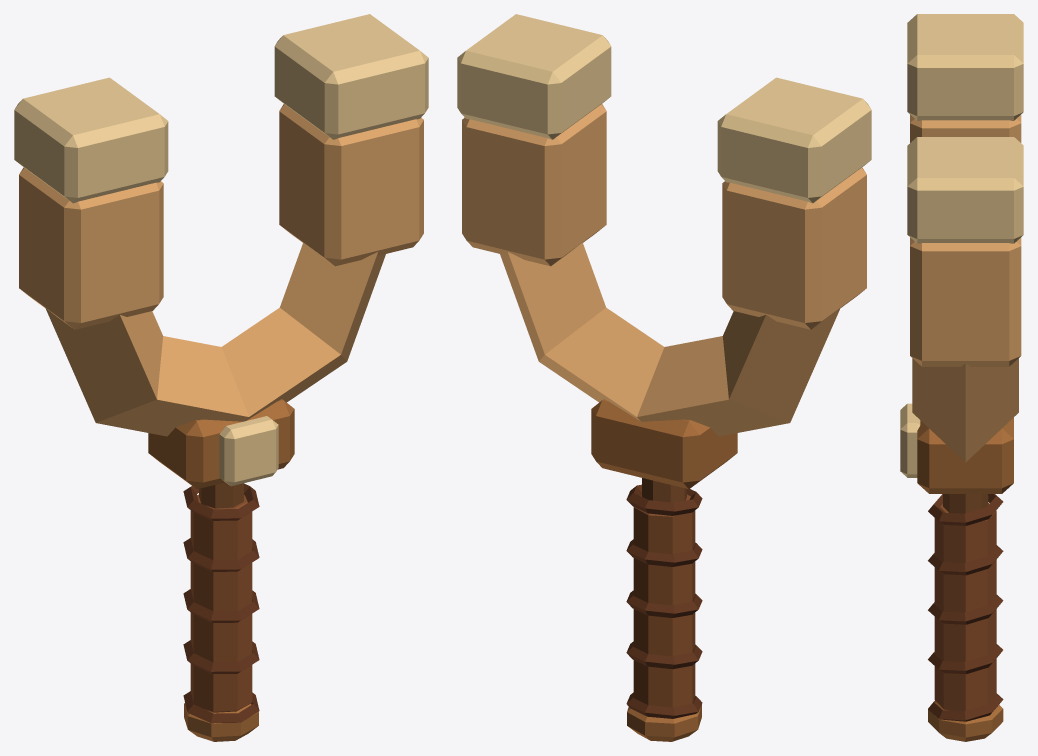
The model's file is WoodCoinMagnet.fbx.
The picture shows the model from 3 angles, left to right: view 1: azimuth 30°, elevation 25°; view 2: azimuth 150°, elevation 25°; view 3: azimuth 270°, elevation 25°; orthographic projection. The views are drawn at different scales.
Parts seen in each view (by area): view 1: WoodCoinMagnet; view 2: WoodCoinMagnet; view 3: WoodCoinMagnet.
Part boxes in pixels (x1=…): WoodCoinMagnet: x1=14, y1=14, x2=428, y2=741; WoodCoinMagnet: x1=457, y1=14, x2=871, y2=741; WoodCoinMagnet: x1=900, y1=14, x2=1023, y2=741.
Bounding box in the file's own units: 1.68 × 2.89 × 0.51.
1 material, 1 textured.
